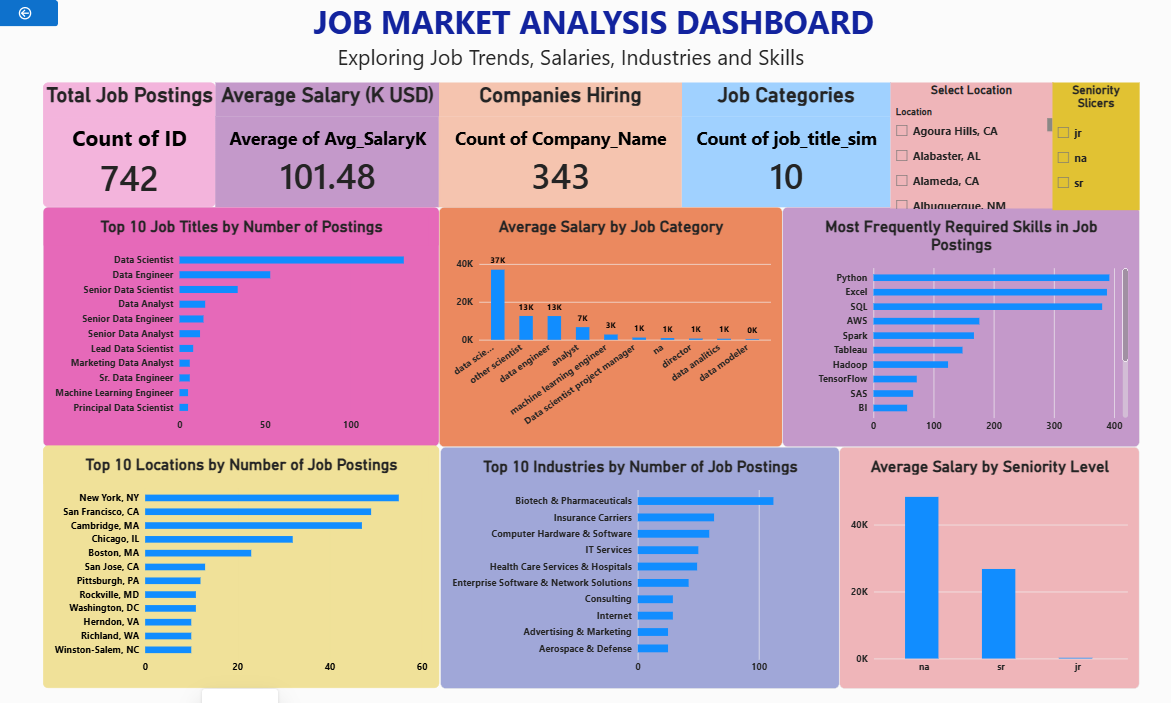

This screenshot's page, from the dashboard's own definition file:
{"tool":"powerbi","page":{"name":"Page 1","canvas":[1920,1080],"ordinal":0},"visuals":[{"type":"cardVisual","title":"Total Job Postings","fields":{"Data":["CountNonNull(job_market_analysis.ID)"]},"box":[77.2,124.9,261.2,188.5],"z":0},{"type":"cardVisual","title":"Average Salary (K USD)","fields":{"Data":["Avg(job_market_analysis.Avg_SalaryK)"]},"box":[338.4,124.9,338.4,188.5],"z":1000},{"type":"cardVisual","title":"Companies Hiring","fields":{"Data":["Count(job_market_analysis.Company_Name)"]},"box":[676.8,124.9,368,188.5],"z":2000},{"type":"actionButton","box":[0,0,100,40],"z":3000},{"type":"cardVisual","title":"Job Categories","fields":{"Data":["Count(job_market_analysis.job_title_sim)"]},"box":[1044.8,124.9,315.7,188.5],"z":4000},{"type":"clusteredBarChart","title":"Top 10 Job Titles by Number of Postings","fields":{"Category":["job_market_analysis.Job_Title"],"Y":["CountNonNull(job_market_analysis.ID)"]},"box":[77.5,312.5,600,362.5],"z":5000},{"type":"clusteredBarChart","title":"Top 10 Locations by Number of Job Postings","fields":{"Category":["job_market_analysis.Location"],"Y":["CountNonNull(job_market_analysis.ID)"]},"box":[77.5,675,600,367.5],"z":6000},{"type":"clusteredColumnChart","title":"Average Salary by Job Category","fields":{"Category":["job_market_analysis.job_title_sim"],"Y":["Sum(job_market_analysis.Avg_SalaryK)"]},"box":[676.8,313.4,520.1,363.4],"z":7000},{"type":"clusteredBarChart","title":"Top 10 Industries by Number of Job Postings","fields":{"Category":["job_market_analysis.Industry"],"Y":["CountNonNull(job_market_analysis.ID)"]},"box":[679.1,676.8,604.2,365.7],"z":8000},{"type":"clusteredBarChart","title":"Most Frequently Required Skills in Job Postings","fields":{"Category":["Skills.Skill"],"Y":["Sum(Skills.Count)"]},"box":[1197,313.4,540.6,363.4],"z":9000},{"type":"clusteredColumnChart","title":"Average Salary by Seniority Level","fields":{"Category":["job_market_analysis.seniority_by_title"],"Y":["Sum(job_market_analysis.Avg_SalaryK)"]},"box":[1283.3,676.8,454.3,365.7],"z":10000},{"type":"slicer","title":"Select Location","fields":{"Values":["job_market_analysis.Location"]},"box":[1360.5,124.9,245.3,190.8],"z":11000},{"type":"slicer","title":"Seniority Slicers","fields":{"Values":["job_market_analysis.seniority_by_title"]},"box":[1605.8,124.9,131.7,193.1],"z":12000},{"type":"textbox","box":[50,0,1869.3,124.9],"z":12001}]}

Visuals, with their boxes on the page's 1920x1080 design canvas (x1, y1, x2, y2). These are canvas units, not pixel positions in the 1171x703 screenshot, which may show the page scaled, cropped or inside an application window:
"Total Job Postings" cardVisual: box(77, 125, 338, 313)
"Average Salary (K USD)" cardVisual: box(338, 125, 677, 313)
"Companies Hiring" cardVisual: box(677, 125, 1045, 313)
actionButton: box(0, 0, 100, 40)
"Job Categories" cardVisual: box(1045, 125, 1360, 313)
"Top 10 Job Titles by Number of Postings" clusteredBarChart: box(78, 312, 678, 675)
"Top 10 Locations by Number of Job Postings" clusteredBarChart: box(78, 675, 678, 1042)
"Average Salary by Job Category" clusteredColumnChart: box(677, 313, 1197, 677)
"Top 10 Industries by Number of Job Postings" clusteredBarChart: box(679, 677, 1283, 1042)
"Most Frequently Required Skills in Job Postings" clusteredBarChart: box(1197, 313, 1738, 677)
"Average Salary by Seniority Level" clusteredColumnChart: box(1283, 677, 1738, 1042)
"Select Location" slicer: box(1360, 125, 1606, 316)
"Seniority Slicers" slicer: box(1606, 125, 1738, 318)
textbox: box(50, 0, 1919, 125)
